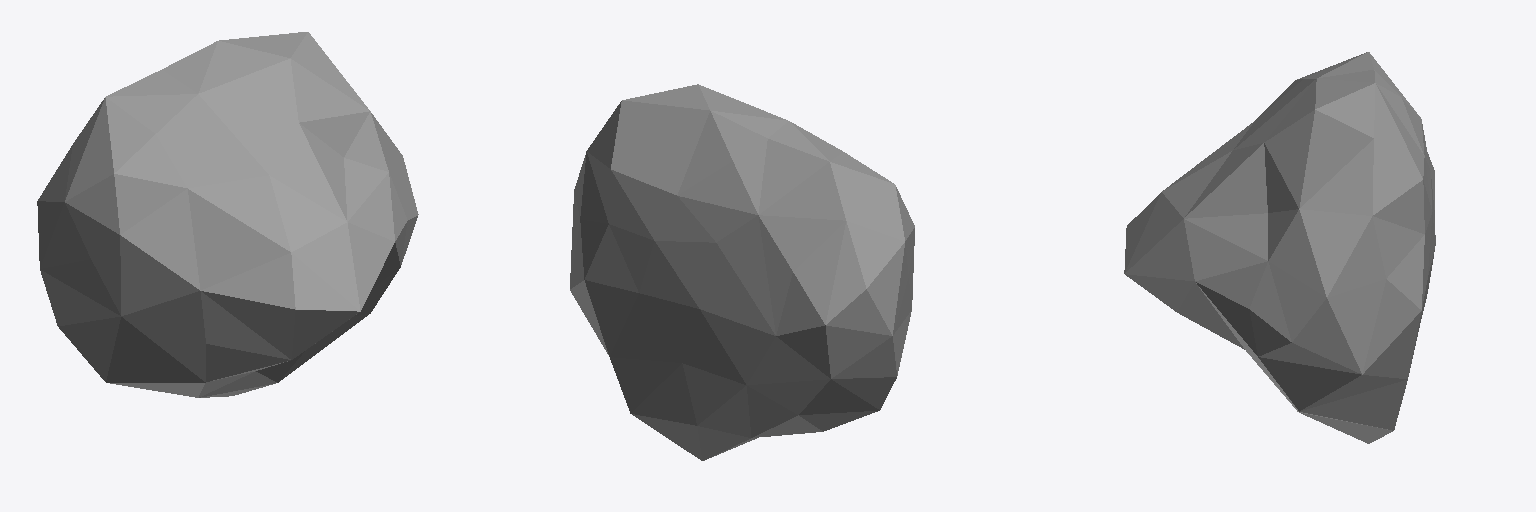
File: caillou.obj
3 renders of one model, left to right at view 1: azimuth 30°, elevation 25°; view 2: azimuth 150°, elevation 25°; view 3: azimuth 270°, elevation 25°, orthographic.
Parts seen in each view (by area): view 1: Rock3.003_Icosphere.005; view 2: Rock3.003_Icosphere.005; view 3: Rock3.003_Icosphere.005.
Boxes of the visible parts, x1,y1,x2,y2 form: Rock3.003_Icosphere.005: [37, 32, 418, 397]; Rock3.003_Icosphere.005: [570, 84, 914, 460]; Rock3.003_Icosphere.005: [1124, 52, 1435, 443].
Size of the model in its own units: 1.88 by 1.88 by 1.49.